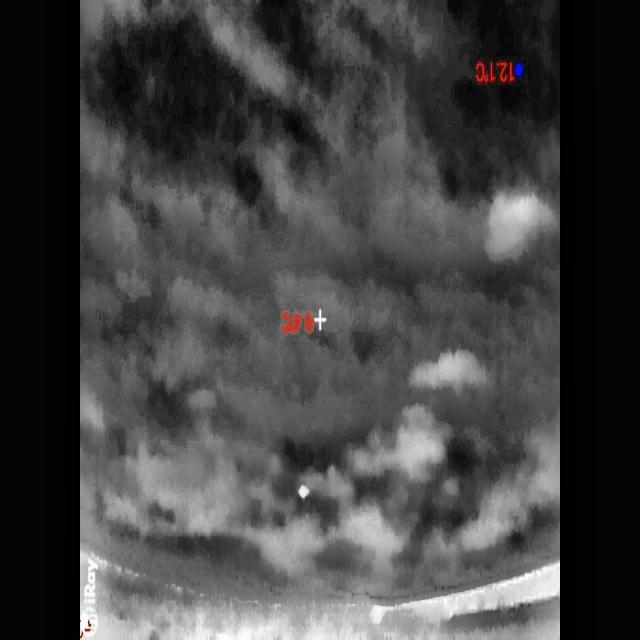drone: (298, 482, 309, 501)
